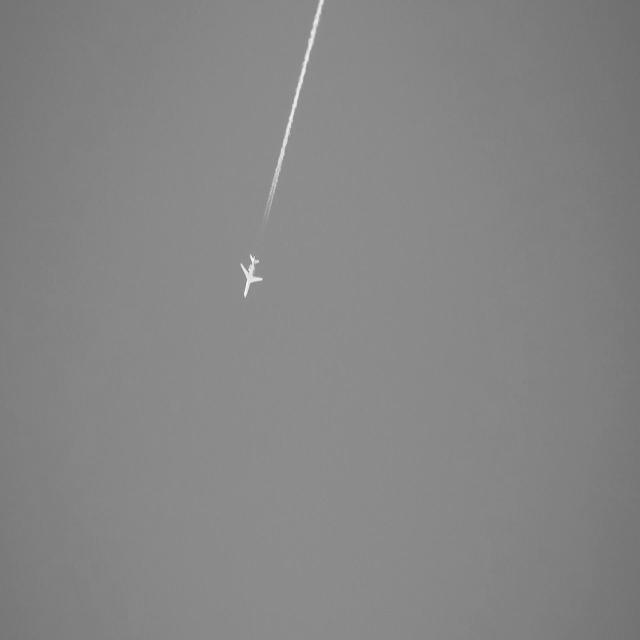aeroplane: (238, 248, 264, 305)
